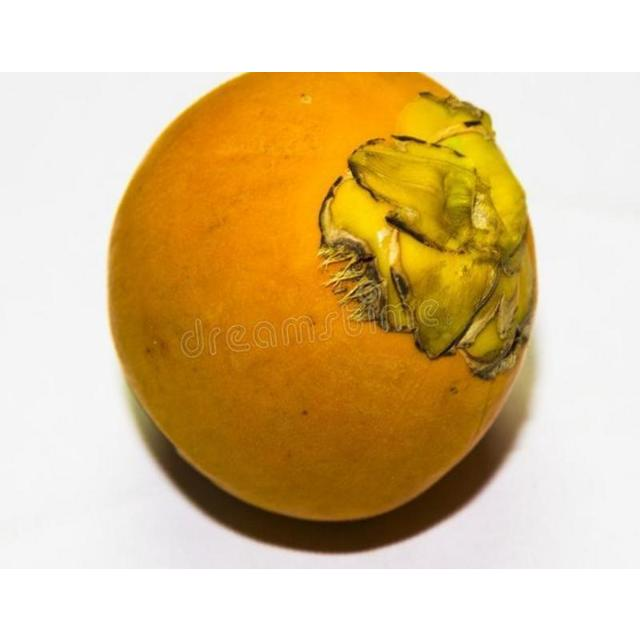good: (106, 71, 540, 526)
